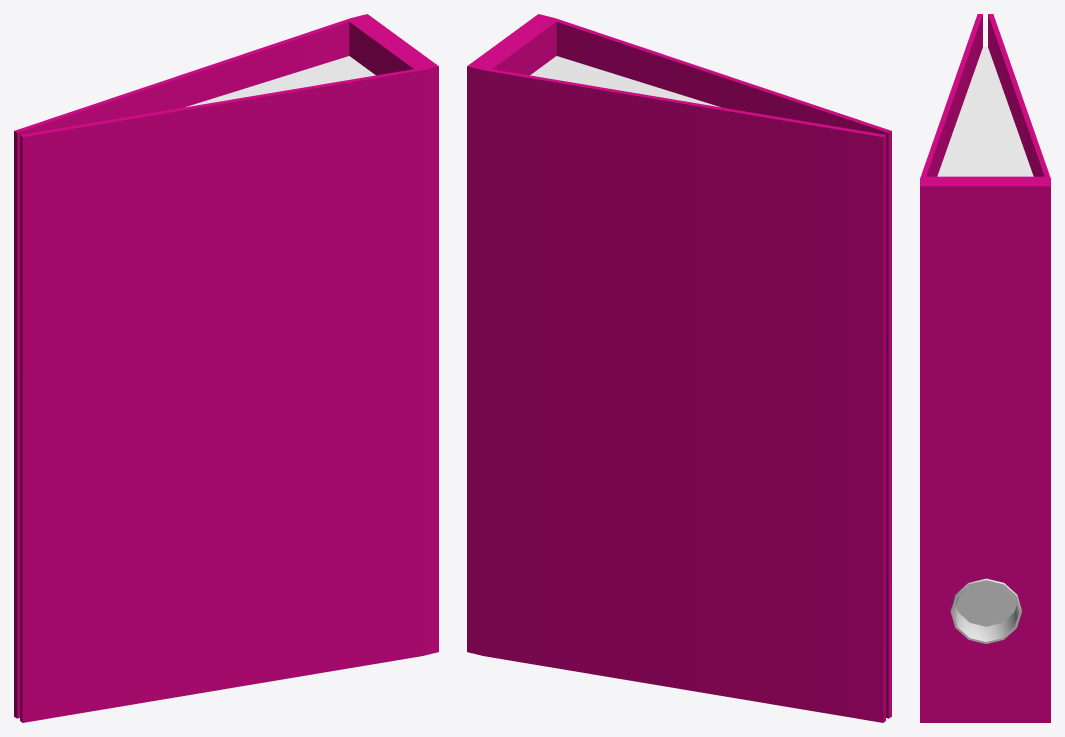
The model's file is Carpeta12.fbx.
3 views of the same model, side by side, from view 1: azimuth 30°, elevation 25°; view 2: azimuth 150°, elevation 25°; view 3: azimuth 270°, elevation 25° (orthographic). The views are drawn at different scales.
Parts seen in each view (by area): view 1: Carpeta12; view 2: Carpeta12; view 3: Carpeta12.
Boxes of the visible parts, x1,y1,x2,y2 form: Carpeta12: (14, 14, 438, 722); Carpeta12: (467, 14, 891, 722); Carpeta12: (920, 14, 1050, 722).
Size of the model in its own units: 34.66 by 50.08 by 11.07.
